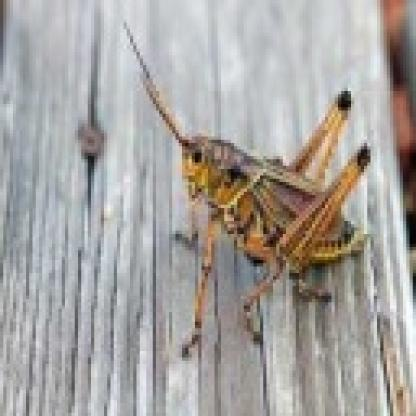grasshopper: (120, 17, 375, 356)
